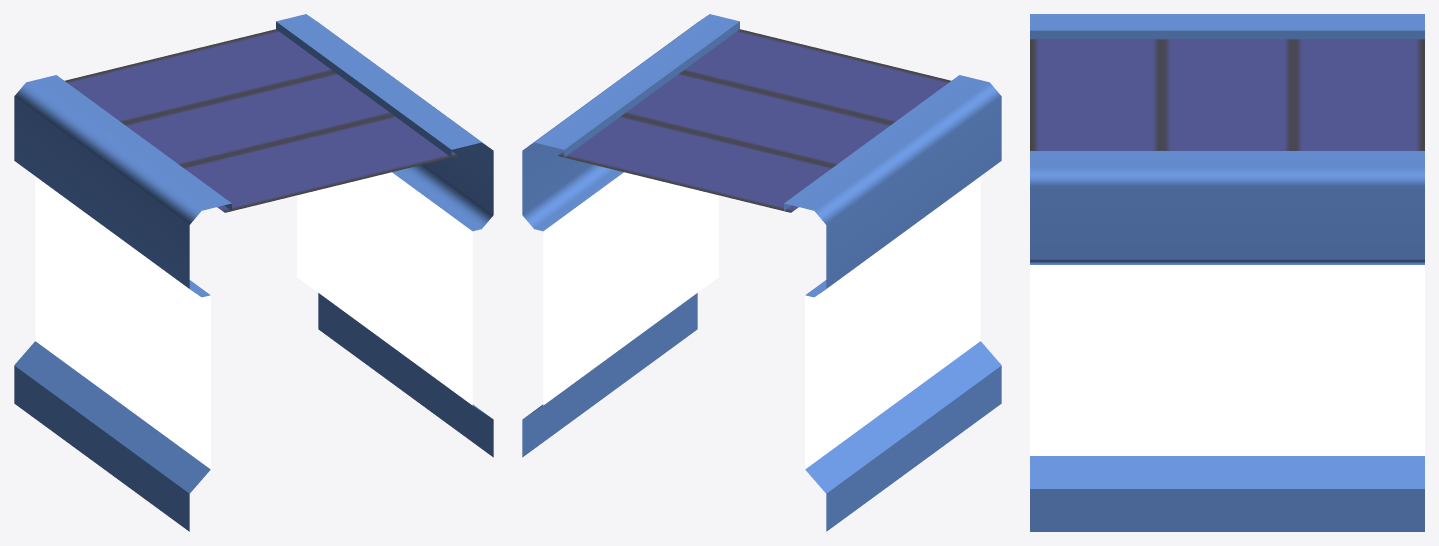
The model's file is Tile1.fbx.
The picture shows the model from 3 angles, left to right: view 1: azimuth 30°, elevation 25°; view 2: azimuth 150°, elevation 25°; view 3: azimuth 270°, elevation 25°; orthographic projection. The views are drawn at different scales.
Parts seen in each view (by area): view 1: SM_Conveyor1; view 2: SM_Conveyor1; view 3: SM_Conveyor1.
Boxes of the visible parts, x1=… form: SM_Conveyor1: x1=14, y1=14, x2=493, y2=531; SM_Conveyor1: x1=522, y1=14, x2=1001, y2=531; SM_Conveyor1: x1=1030, y1=14, x2=1424, y2=531.
Bounding box in the file's own units: 1 × 1 × 1.
